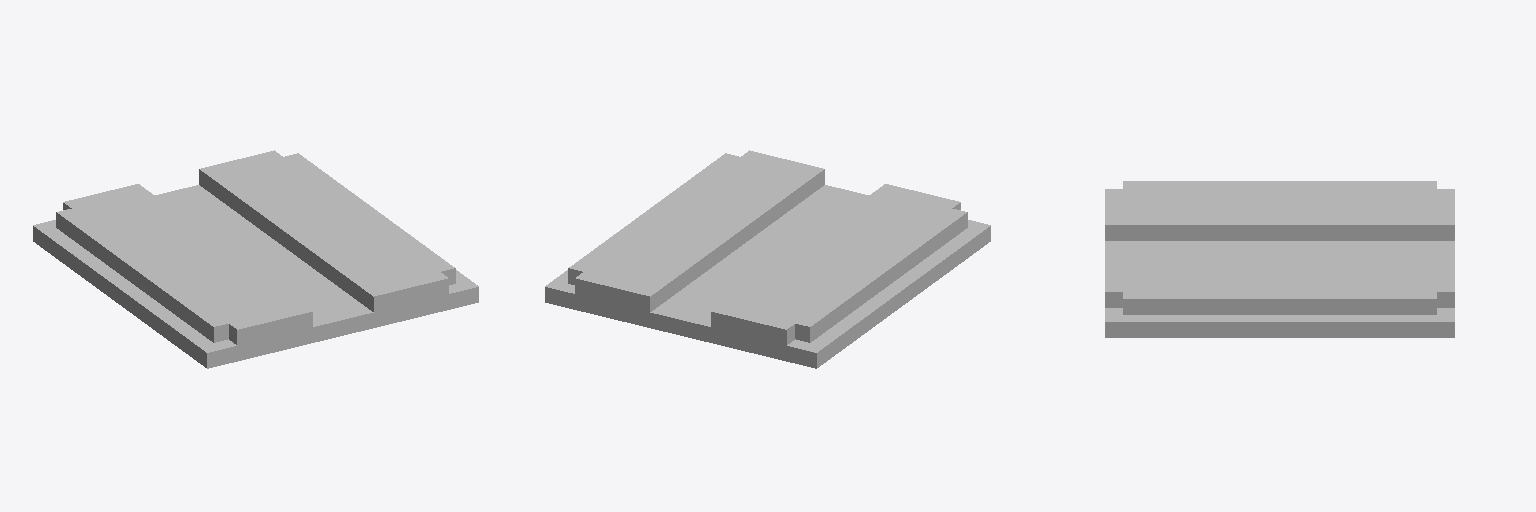
File: socle_door.obj
The picture shows the model from 3 angles: view 1: azimuth 30°, elevation 25°; view 2: azimuth 150°, elevation 25°; view 3: azimuth 270°, elevation 25°; orthographic projection.
Visible parts, largest first — view 1: socle_door; view 2: socle_door; view 3: socle_door.
Part boxes in pixels (left/top/right/bottom): socle_door: left=33, top=150, right=478, bottom=368; socle_door: left=545, top=150, right=990, bottom=368; socle_door: left=1105, top=181, right=1454, bottom=337.
Size of the model in its own units: 18 by 2 by 20.